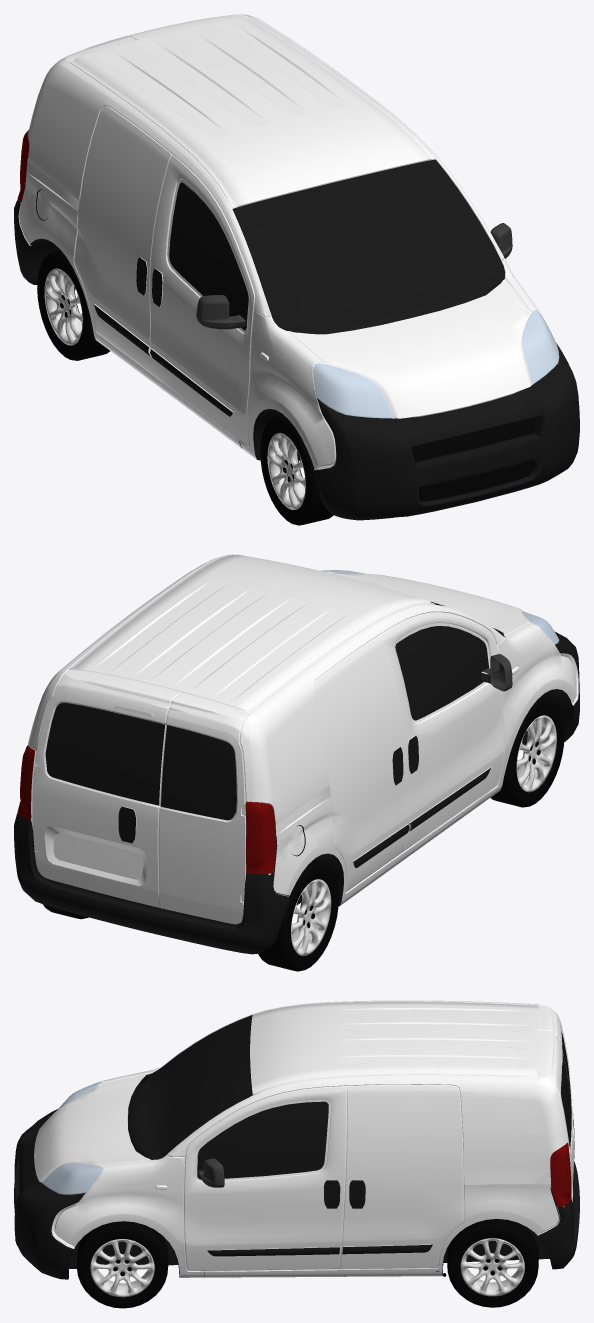
The model's file is fiorino-2024.glb.
3 views of the same model, one above another, from view 1: azimuth 30°, elevation 25°; view 2: azimuth 150°, elevation 25°; view 3: azimuth 270°, elevation 25° (orthographic). The views are drawn at different scales.
Visible parts, largest first — view 1: body (×2), model_6, roof, model_0_0_0_0_0_0_0_0_0_0_0_0_1, hood, model_0_0_0_1, model_0_0_0_0_1, model_13-mesh_3_0-mesh, model_13-mesh_2_0-mesh, model_13-mesh_3_1-mesh, model_13-mesh_2_1-mesh, model_0_0_0_0_0_1 (+2 smaller); view 2: body (×2), roof, model_0_0_0_0_0_0_0_0_0_0_1, model_0_0_0_0_0_0_0_1, model_6, hood, model_13-mesh_2_0-mesh, model_0_0_0_0_0_0_0_0_0_1, model_13-mesh_3_0-mesh, model_13-mesh_3_1-mesh, model_13-mesh_2_1-mesh, model_0_0_0_0_0_1 (+4 smaller); view 3: body, roof, model_6, hood, model_0_0_0_0_0_0_0_0_0_0_0_0_1, model_13-mesh_1_0-mesh, model_13-mesh_0_0-mesh, model_0_0_0_0_0_1, model_13-mesh_1_1-mesh, model_13-mesh_0_1-mesh, model_0_0_0_0_0_0_0_1, model_0_0_0_0_0_0_1_0 (+4 smaller).
Boxes of the visible parts, box(x1,y1,x2,y2) form: body (×2): box(17, 14, 540, 470); model_6: box(169, 159, 505, 334); roof: box(75, 17, 429, 205); model_0_0_0_0_0_0_0_0_0_0_0_0_1: box(314, 343, 579, 519); hood: box(272, 269, 536, 418); model_0_0_0_1: box(313, 310, 559, 418); model_0_0_0_0_1: box(411, 416, 536, 501); model_13-mesh_3_0-mesh: box(260, 415, 333, 525); model_13-mesh_2_0-mesh: box(37, 250, 109, 360); model_13-mesh_3_1-mesh: box(267, 433, 305, 509); model_13-mesh_2_1-mesh: box(44, 268, 82, 345); model_0_0_0_0_0_1: box(94, 257, 232, 416); body (×2): box(17, 554, 578, 924); roof: box(75, 554, 429, 709); model_0_0_0_0_0_0_0_0_0_0_1: box(45, 703, 236, 820); model_0_0_0_0_0_0_0_1: box(14, 813, 289, 954); model_6: box(395, 602, 504, 720); hood: box(324, 571, 536, 640); model_13-mesh_2_0-mesh: box(258, 860, 338, 971); model_0_0_0_0_0_0_0_0_0_1: box(17, 745, 276, 874); model_13-mesh_3_0-mesh: box(490, 697, 564, 807); model_13-mesh_3_1-mesh: box(516, 715, 556, 792); model_13-mesh_2_1-mesh: box(291, 879, 331, 955); model_0_0_0_0_0_1: box(353, 736, 490, 867); body: box(40, 1000, 574, 1277); roof: box(250, 1002, 537, 1091); model_6: box(128, 1015, 328, 1179); hood: box(34, 1068, 160, 1182); model_0_0_0_0_0_0_0_0_0_0_0_0_1: box(14, 1109, 85, 1279); model_13-mesh_1_0-mesh: box(447, 1219, 538, 1307); model_13-mesh_0_0-mesh: box(76, 1221, 453, 1308); model_0_0_0_0_0_1: box(207, 1180, 432, 1256); model_13-mesh_1_1-mesh: box(460, 1238, 524, 1296); model_13-mesh_0_1-mesh: box(90, 1239, 154, 1297); model_0_0_0_0_0_0_0_1: box(537, 1120, 579, 1269); model_0_0_0_0_0_0_1_0: box(48, 1124, 559, 1279).
Size of the model in its own units: 2.41 by 2.04 by 4.64.
